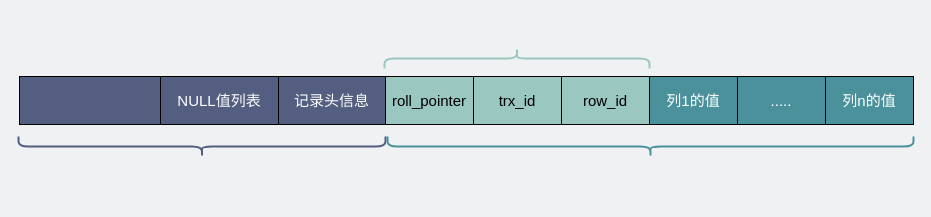
Some shapes in this 931 by 217 pixel diagram are drawn without their labels. The shapes that lost their labels are listed below. From the top down, each one's centre as x and y in pixels, then its label:
(x=516, y=58): 隐藏列
(x=89, y=100): 变长字段长度列表
(x=201, y=146): 行记录的额外信息
(x=650, y=146): 行记录的真实信息
